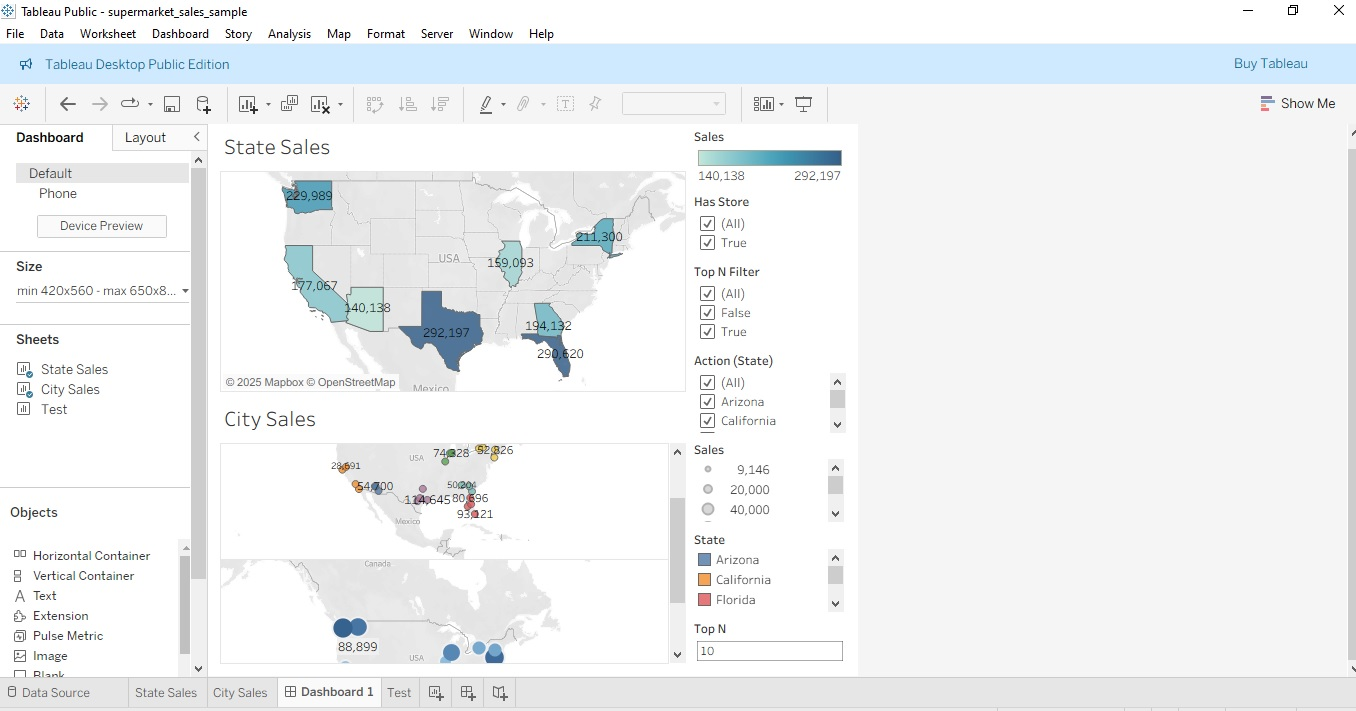

The dashboard page shown, as its layout file describes it:
{"tool":"tableau","page":{"name":"Dashboard 1","canvas":[650,860],"ordinal":0},"visuals":[{"type":"worksheet","title":"State Sales","mark":"Automatic","box":[8,12.3,474,417.7]},{"type":"legend","title":"State Sales","param":"[federated.0r0ec2x00h6fdj1beljoz1tf8e3x].[sum:Sales:qk]","box":[482,12.3,160,99.8]},{"type":"filter","title":"City Sales","param":"[federated.0r0ec2x00h6fdj1beljoz1tf8e3x].[usr:Calculation_329607246959853569:nk]","box":[482,112.1,160,107.5]},{"type":"filter","title":"City Sales","param":"[federated.0r0ec2x00h6fdj1beljoz1tf8e3x].[usr:Calculation_329607246960254978:nk:","box":[482,219.6,160,136.7]},{"type":"filter","title":"City Sales","param":"[federated.0r0ec2x00h6fdj1beljoz1tf8e3x].[Action (State)]","box":[482,356.3,160,137.2]},{"type":"worksheet","title":"City Sales","mark":"Automatic","box":[8,430,474,417.7]},{"type":"legend","title":"City Sales","param":"[federated.0r0ec2x00h6fdj1beljoz1tf8e3x].[sum:Sales:qk]","box":[482,493.5,160,137.2]},{"type":"legend","title":"City Sales","param":"[federated.0r0ec2x00h6fdj1beljoz1tf8e3x].[none:State:nk]","box":[482,630.7,160,137.2]},{"type":"parameter","param":"[Parameters].[Parameter 1]","box":[482,767.8,160,79.9]}]}

Visuals, with their boxes on the page's 650x860 design canvas (x1, y1, x2, y2). These are canvas units, not pixel positions in the 1356x711 screenshot, which may show the page scaled, cropped or inside an application window:
"State Sales" worksheet: region(8, 12, 482, 430)
"State Sales" legend: region(482, 12, 642, 112)
"City Sales" filter: region(482, 112, 642, 220)
"City Sales" filter: region(482, 220, 642, 356)
"City Sales" filter: region(482, 356, 642, 494)
"City Sales" worksheet: region(8, 430, 482, 848)
"City Sales" legend: region(482, 494, 642, 631)
"City Sales" legend: region(482, 631, 642, 768)
parameter: region(482, 768, 642, 848)
